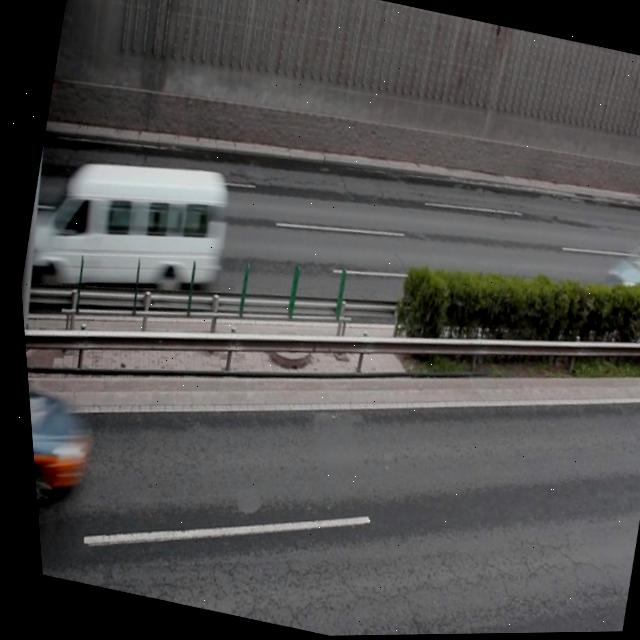car: (22, 371, 98, 512), (590, 228, 640, 322)
truck: (35, 140, 237, 312)
